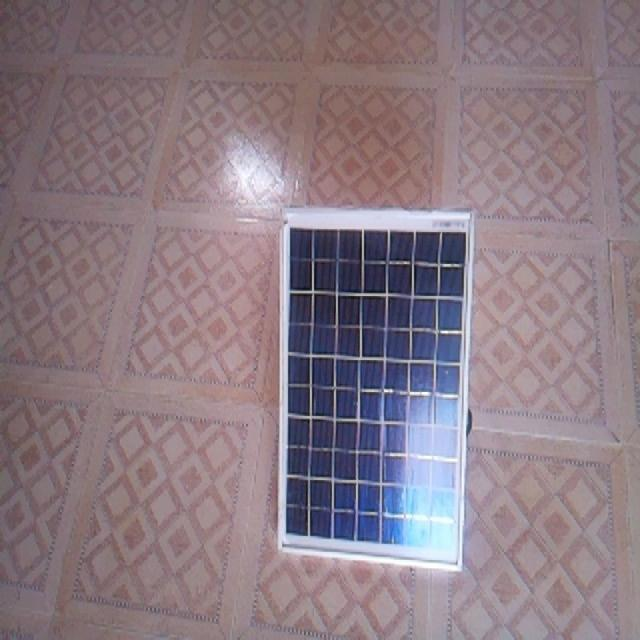Normal Solar Panel: (279, 208, 474, 571)
